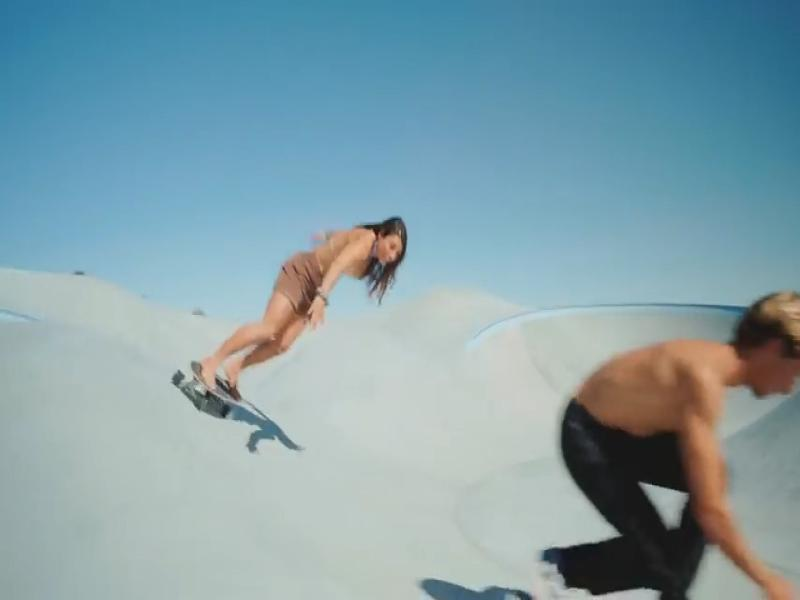person: (542, 292, 800, 600), (192, 217, 408, 397)
skate: (166, 357, 250, 423)
